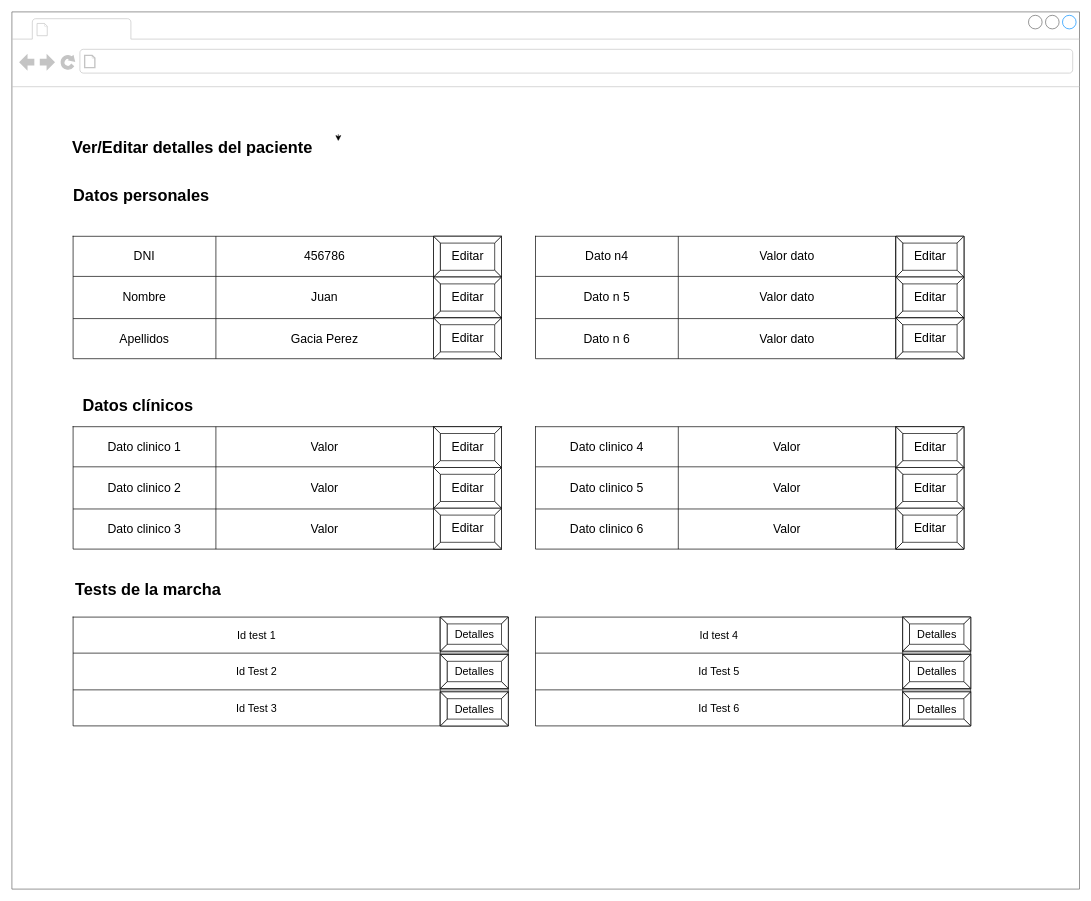
Image size: 1091x901. Some labels were removed from this diagram. Here are the shapes that lost their labels. From the top down, the centre of each, then its label:
At point 90,28: "Page 1".
At point 185,61: "https://www.draw.io".
